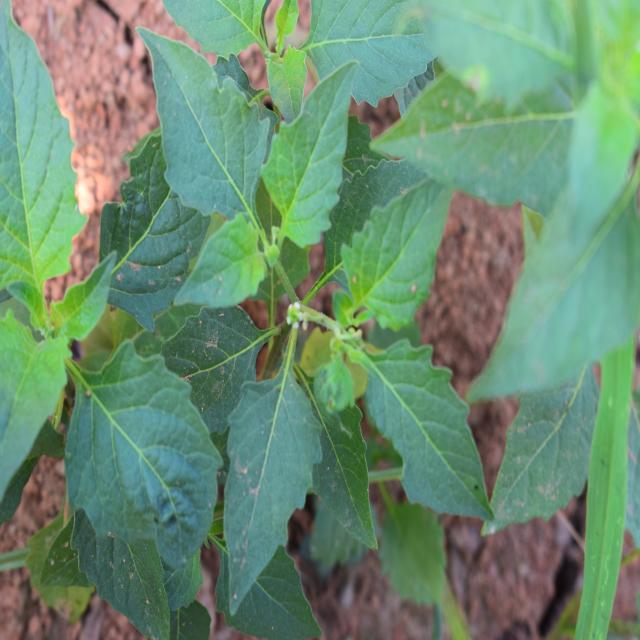Black_nightshade: (156, 42, 480, 568), (0, 55, 222, 566)
